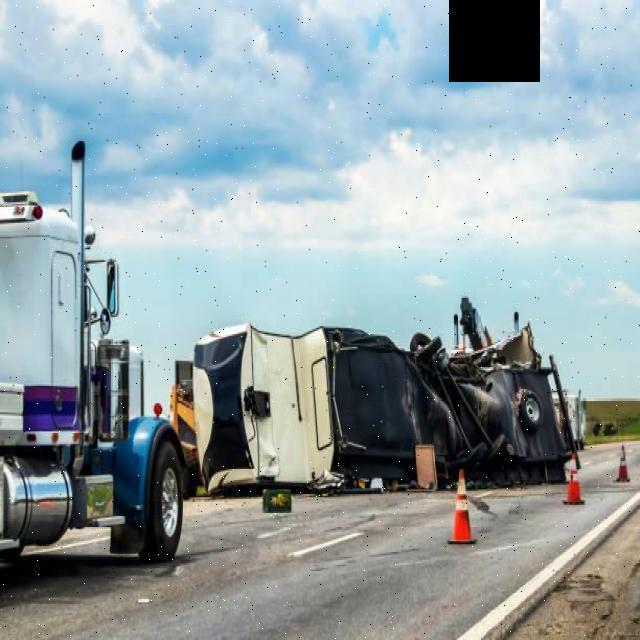accident: (169, 293, 581, 499)
